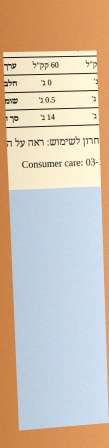carbs: (39, 112, 56, 124)
energy: (31, 59, 60, 72)
fat: (38, 94, 56, 106)
protein: (40, 77, 53, 89)
